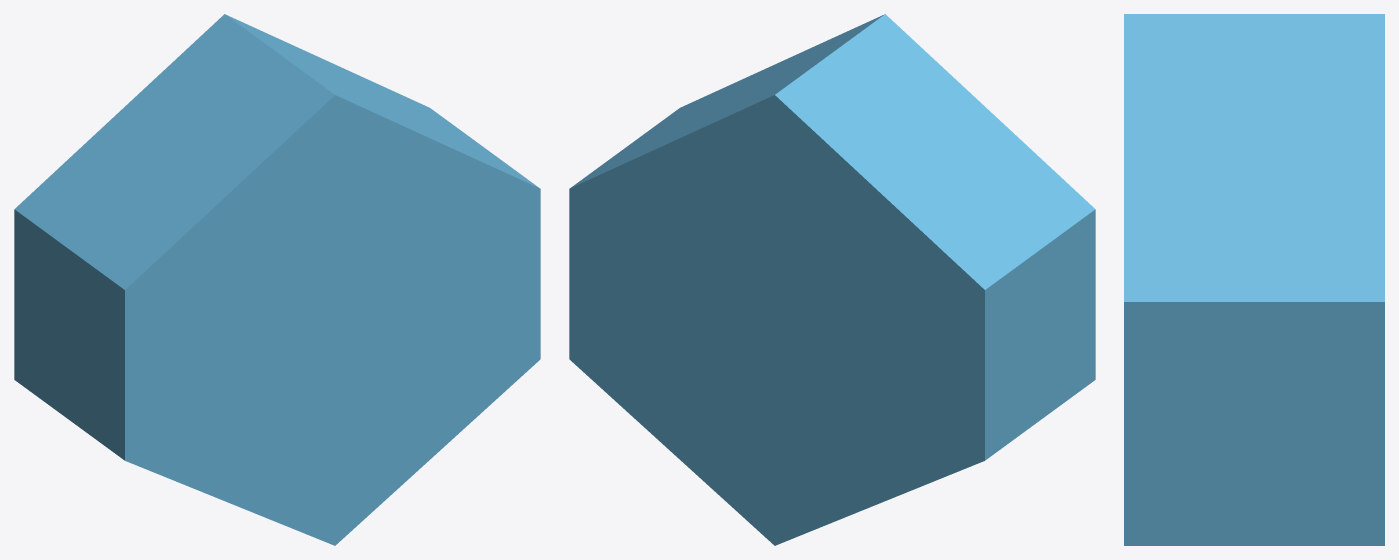
The model's file is waterDrop.fbx.
The picture shows the model from 3 angles, left to right: view 1: azimuth 30°, elevation 25°; view 2: azimuth 150°, elevation 25°; view 3: azimuth 270°, elevation 25°; orthographic projection. The views are drawn at different scales.
Parts seen in each view (by area): view 1: Cube; view 2: Cube; view 3: Cube.
Boxes of the visible parts, x1,y1,x2,y2 form: Cube: (14,14,540,545); Cube: (569,14,1095,545); Cube: (1124,14,1384,545).
Bounding box in the file's own units: 137 × 142 × 63.12.
